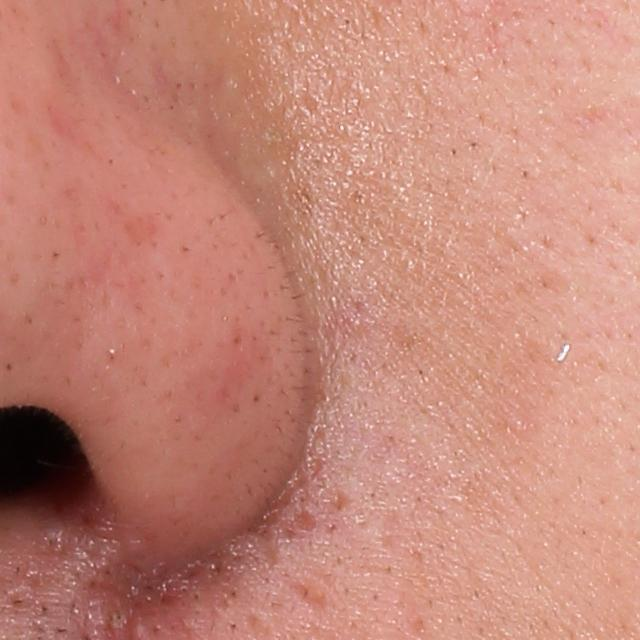atrophic_scar: (288, 578, 334, 613)
